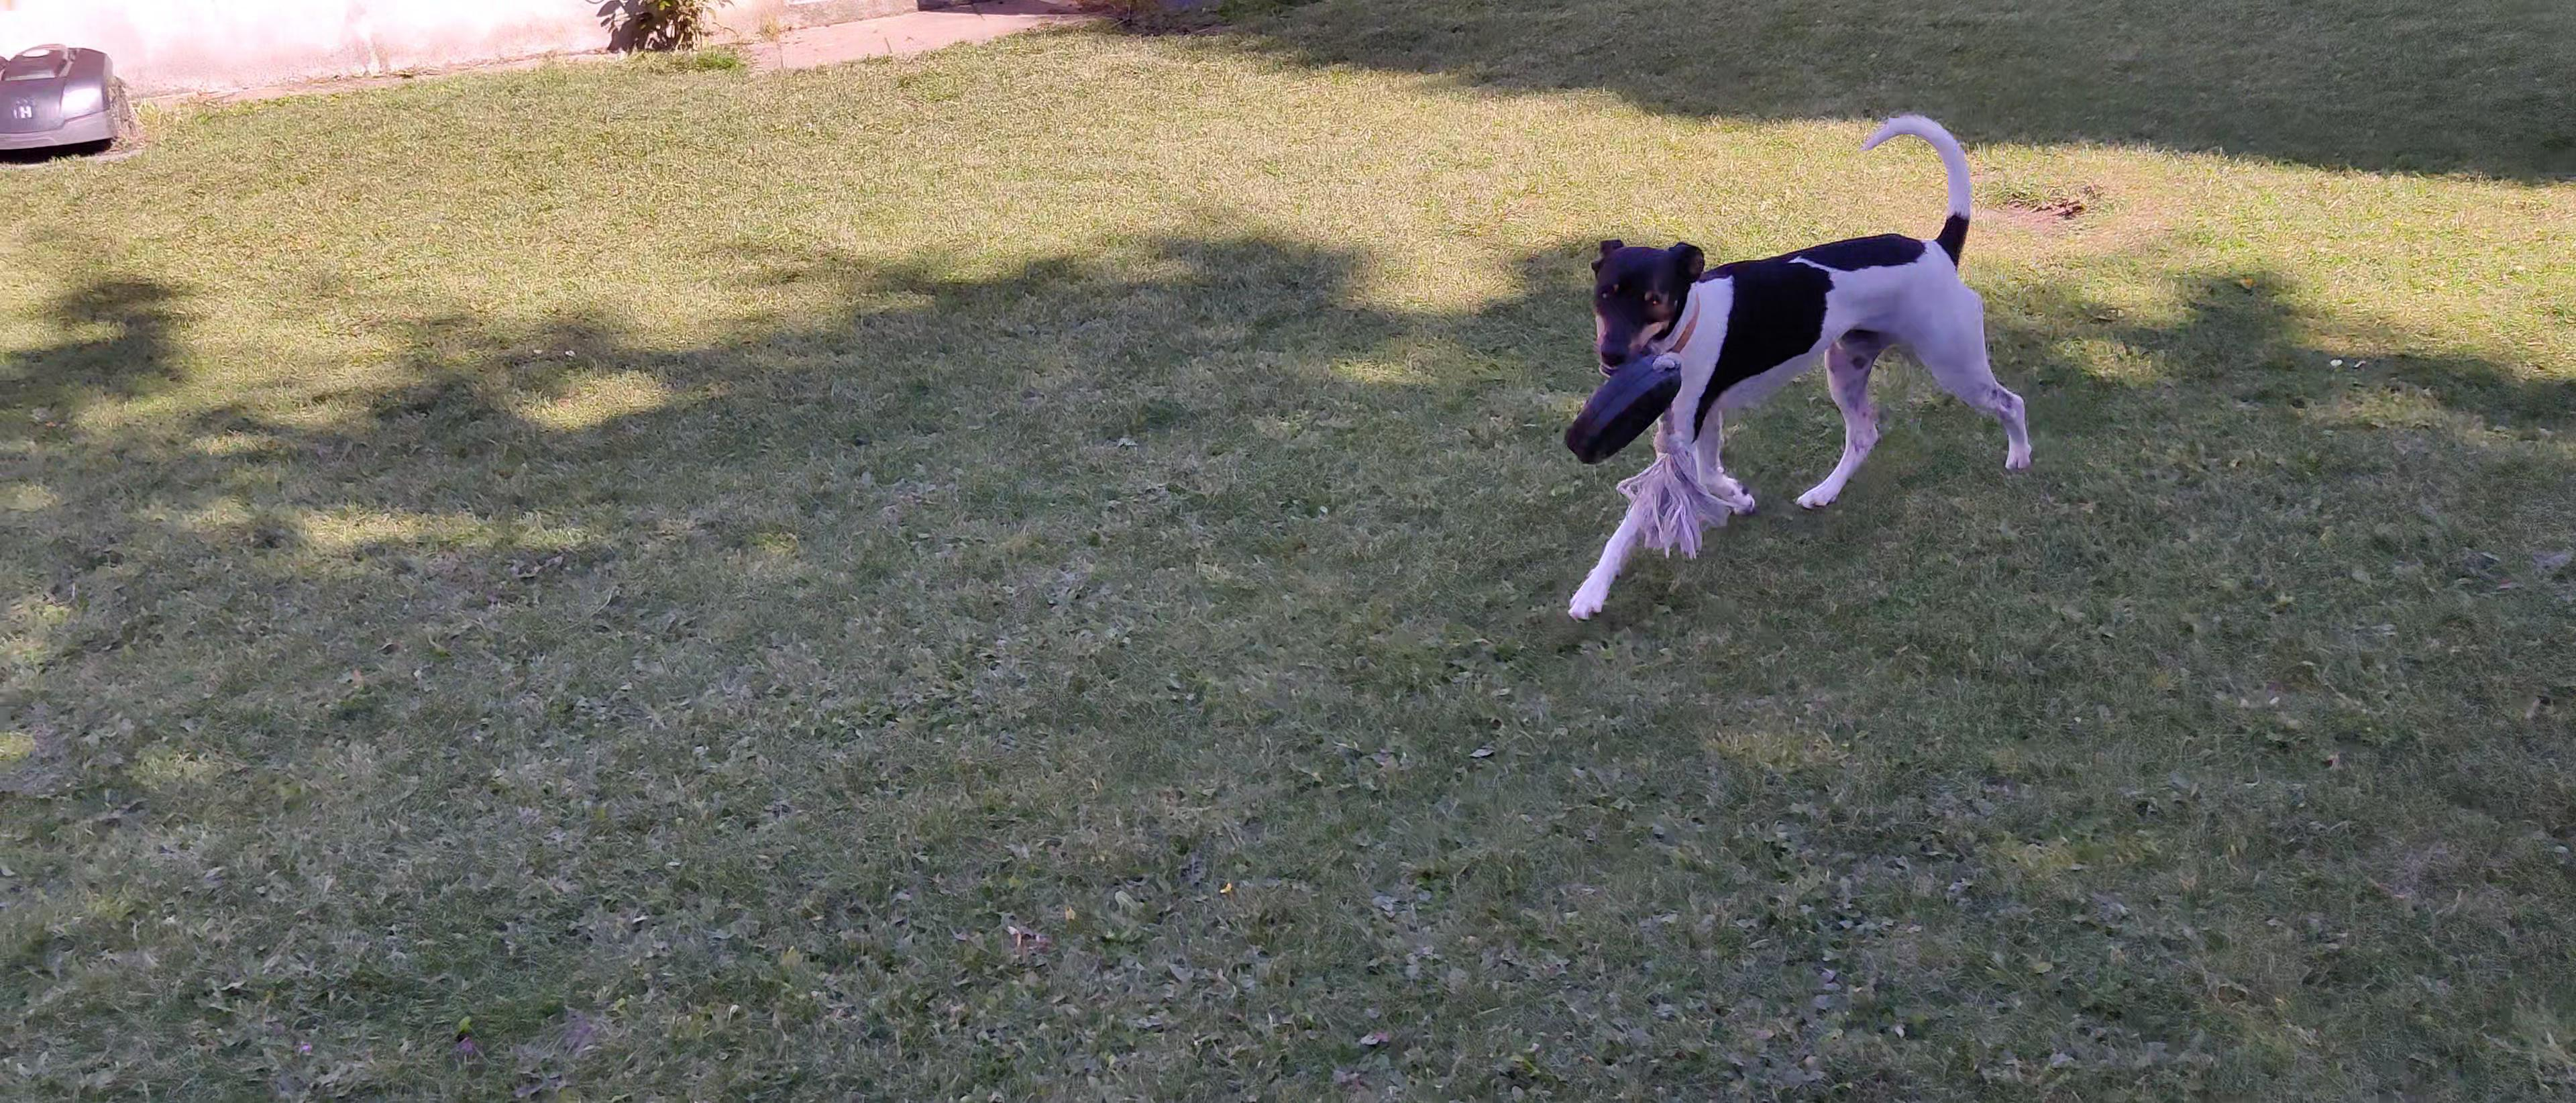Dog: (1559, 108, 2042, 626)
